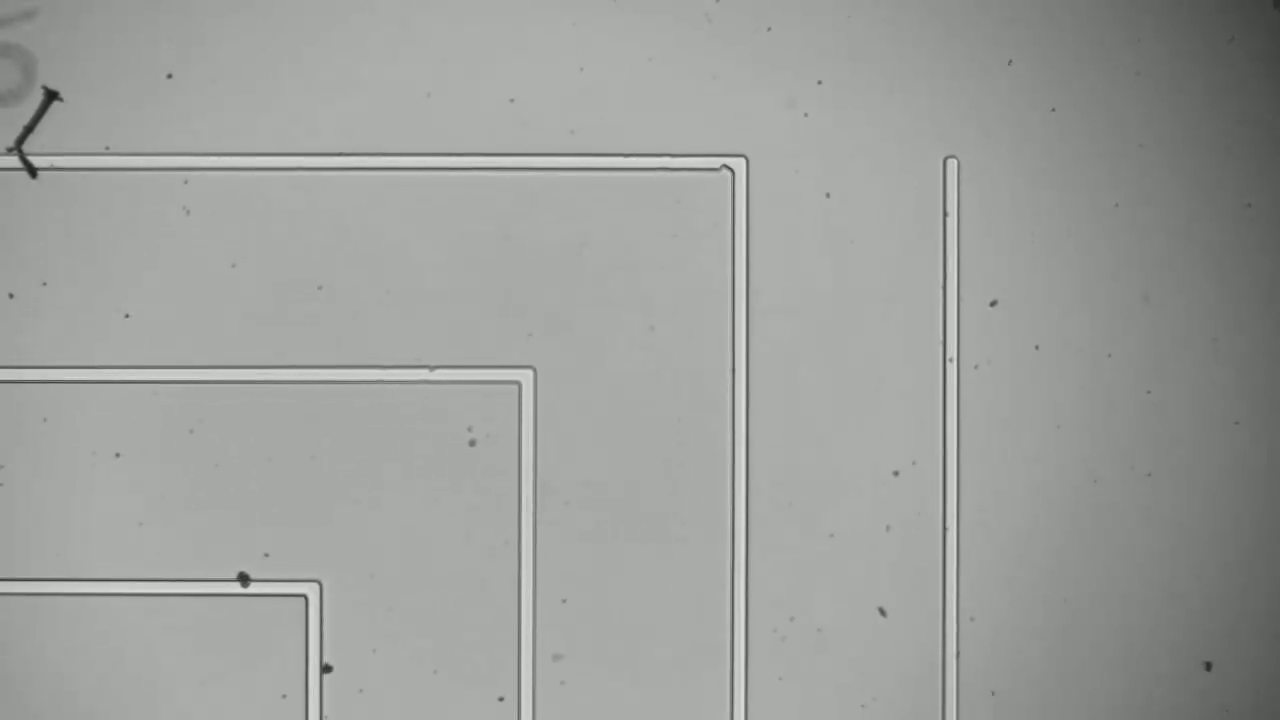edge_bite: (713, 147, 739, 175)
stains_enbedded: (230, 561, 263, 602)
